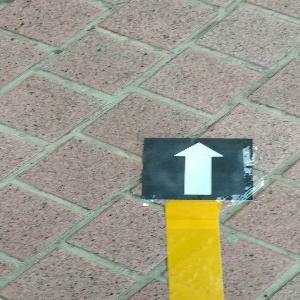straight: (142, 139, 252, 200)
